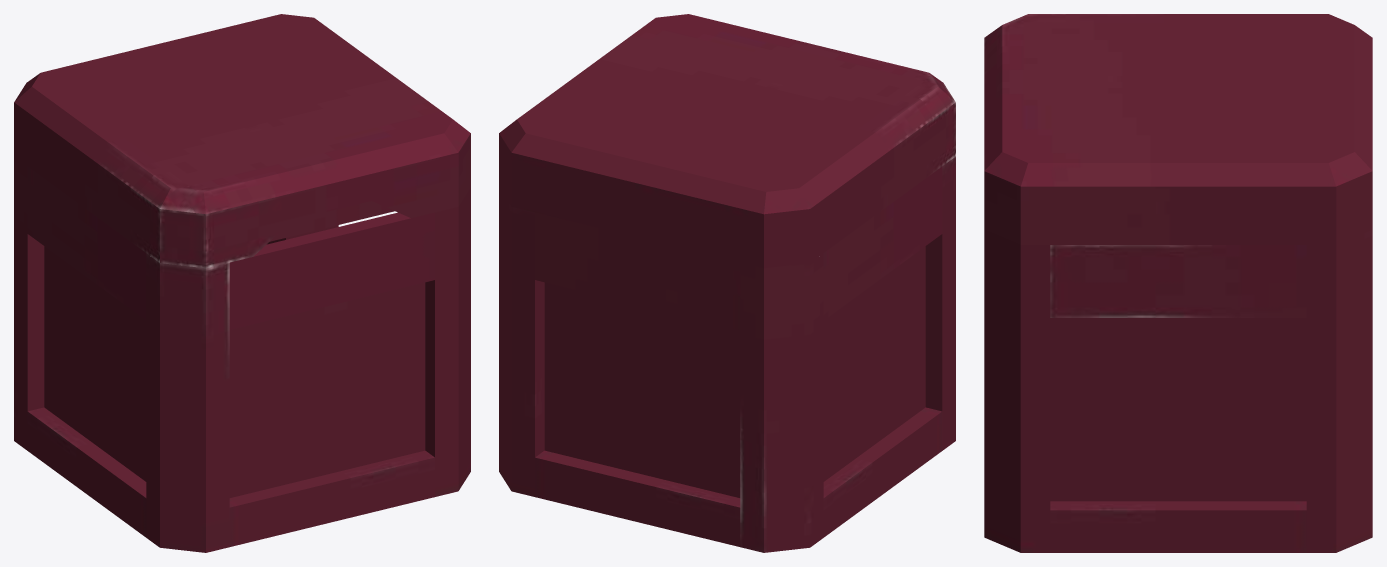
The model's file is Cont_Box_Static.glb.
3 views of the same model, side by side, from view 1: azimuth 30°, elevation 25°; view 2: azimuth 150°, elevation 25°; view 3: azimuth 270°, elevation 25° (orthographic). The views are drawn at different scales.
Visible parts, largest first — view 1: Cont_Box_Static; view 2: Cont_Box_Static; view 3: Cont_Box_Static.
Part boxes in pixels (x1,y1,x2,y2): Cont_Box_Static: (14, 14, 470, 552); Cont_Box_Static: (499, 14, 955, 552); Cont_Box_Static: (984, 14, 1372, 552).
Size of the model in its own units: 0.9186 by 0.9976 by 0.9186.
Materials: 1 (1 with a texture image).
